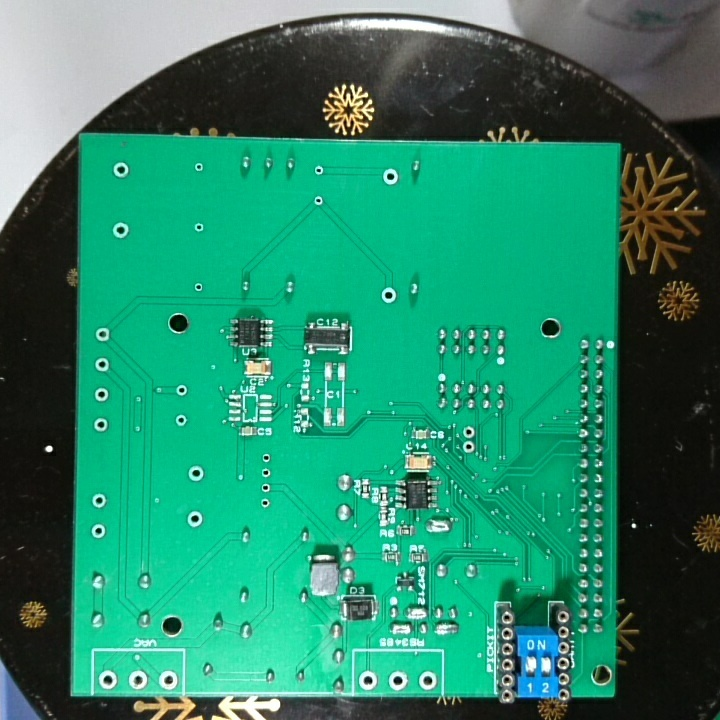F: (95, 666, 120, 692), (156, 668, 181, 693), (386, 668, 411, 693), (416, 667, 439, 694), (127, 666, 150, 692), (357, 670, 382, 692), (185, 463, 207, 485), (378, 283, 399, 306), (108, 220, 131, 241), (184, 507, 205, 530), (110, 159, 132, 180), (88, 519, 108, 542), (92, 354, 113, 375), (379, 166, 401, 186), (88, 490, 108, 512), (91, 385, 111, 405), (91, 414, 111, 434), (93, 325, 114, 343), (310, 161, 328, 180), (172, 411, 190, 430), (459, 423, 477, 441), (458, 438, 477, 455), (172, 381, 189, 400), (191, 219, 208, 236), (257, 449, 274, 466), (191, 159, 209, 175), (310, 193, 326, 209), (258, 495, 272, 512), (190, 280, 205, 295), (258, 466, 274, 480), (258, 480, 272, 495)
P: (423, 515, 455, 535), (431, 620, 460, 639), (388, 619, 414, 640), (402, 603, 431, 621)
